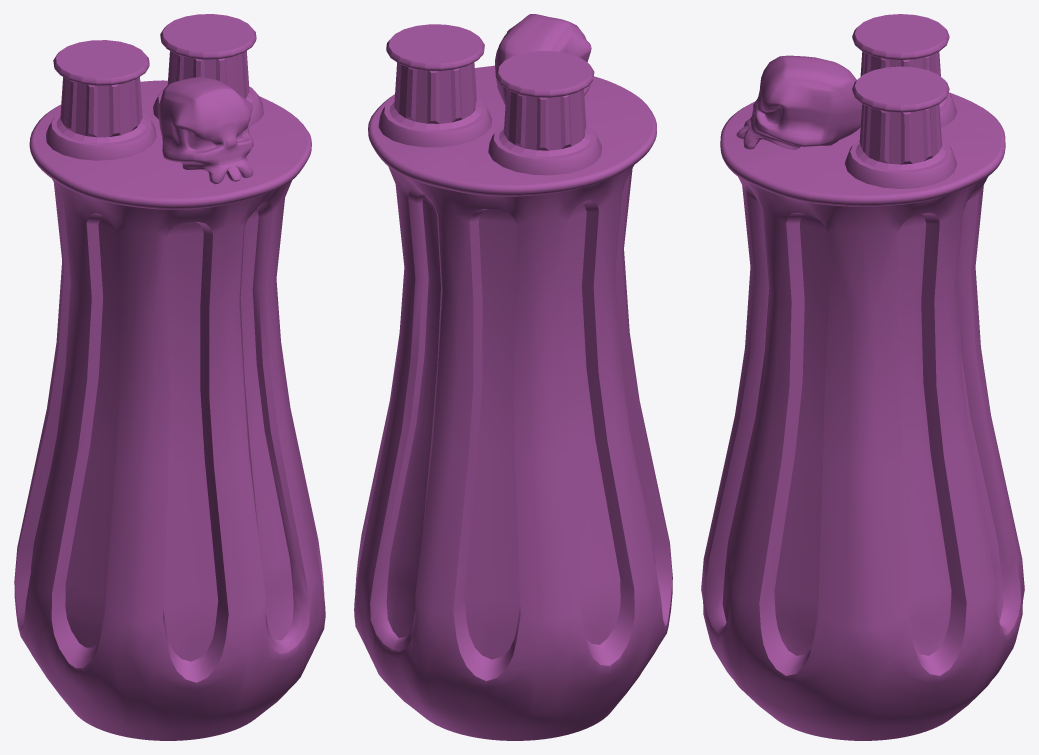
Rendered from SM_Colonne_Milieu_02.fbx.
The picture shows the model from 3 angles, left to right: view 1: azimuth 30°, elevation 25°; view 2: azimuth 150°, elevation 25°; view 3: azimuth 270°, elevation 25°; orthographic projection. The views are drawn at different scales.
Parts seen in each view (by area): view 1: SM_Colonne_Milieu_02; view 2: SM_Colonne_Milieu_02; view 3: SM_Colonne_Milieu_02.
Part boxes in pixels (<box>): SM_Colonne_Milieu_02: <box>14,14,325,740</box>; SM_Colonne_Milieu_02: <box>354,14,672,740</box>; SM_Colonne_Milieu_02: <box>701,14,1024,740</box>.
Size of the model in its own units: 172 by 386 by 176.
